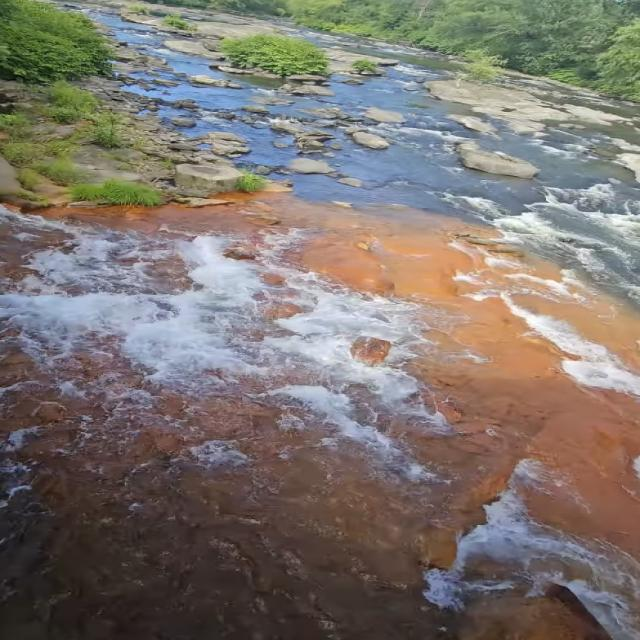yellow_boy: (0, 195, 639, 639)
